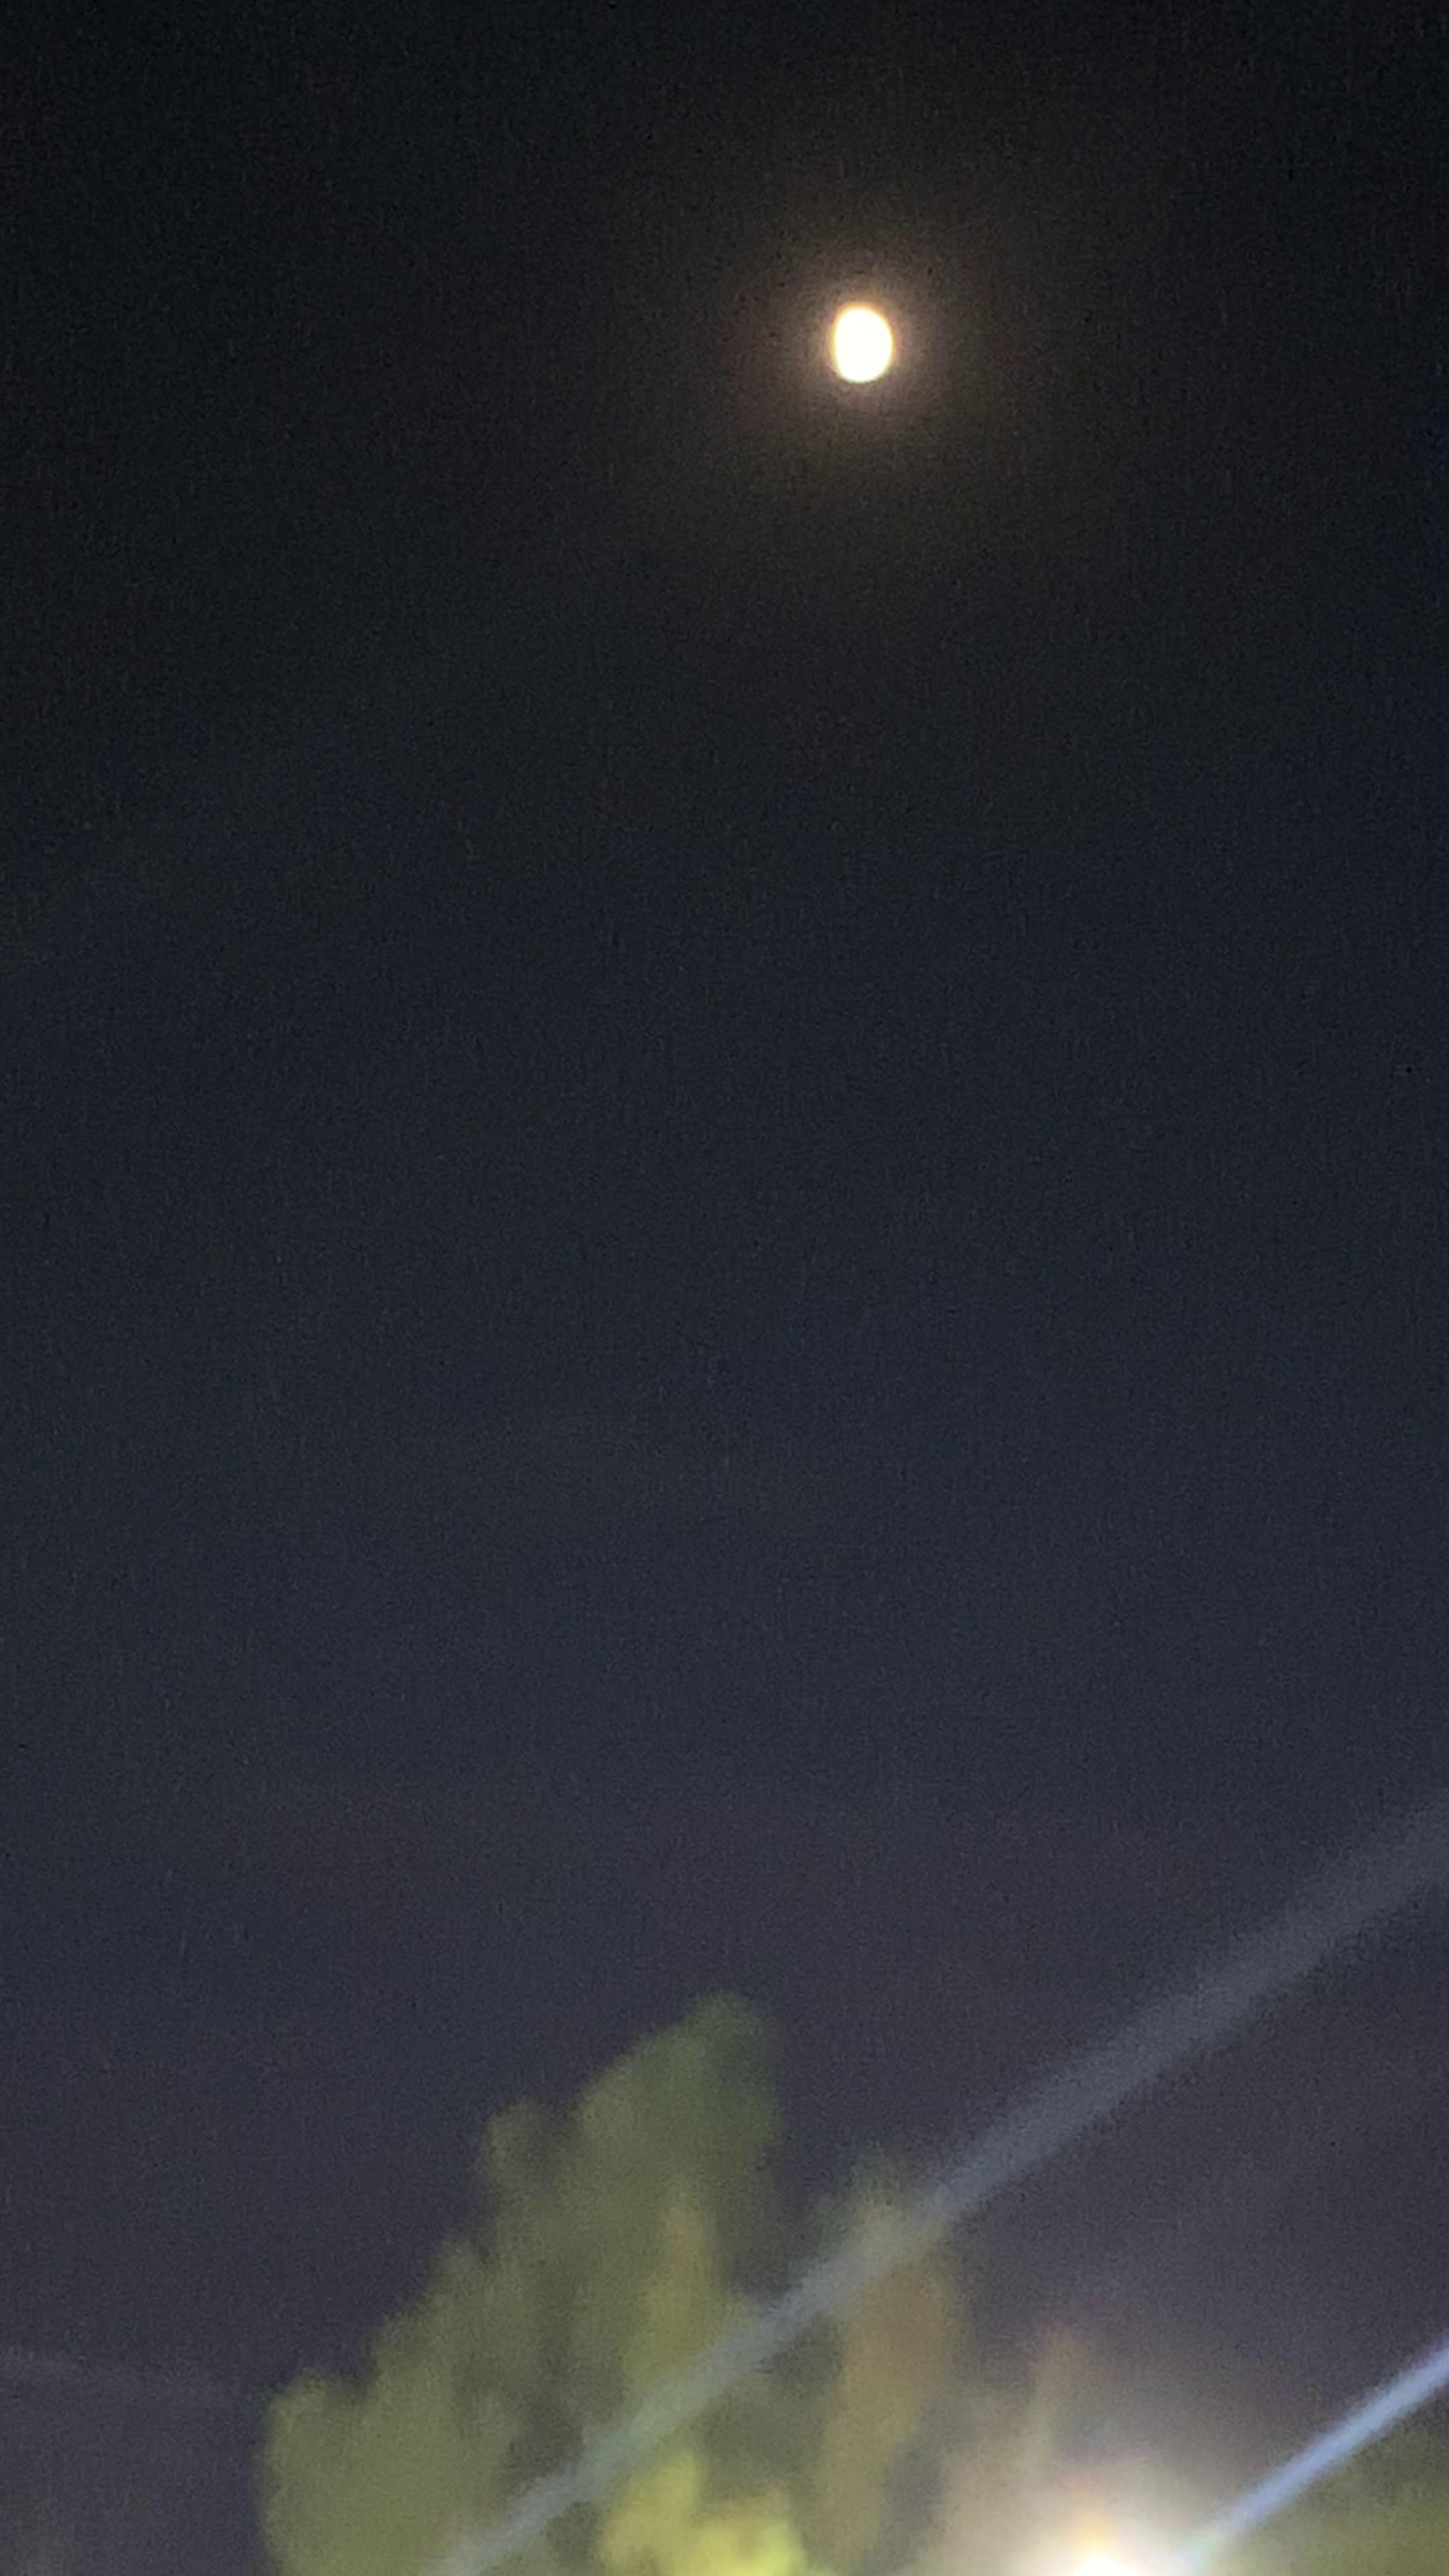moon: (796, 267, 945, 412)
